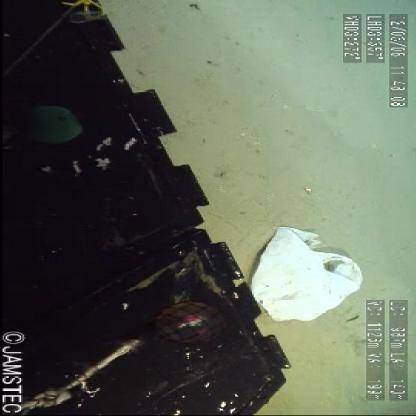Rov: (1, 1, 304, 415)
Rác: (239, 216, 373, 331)
